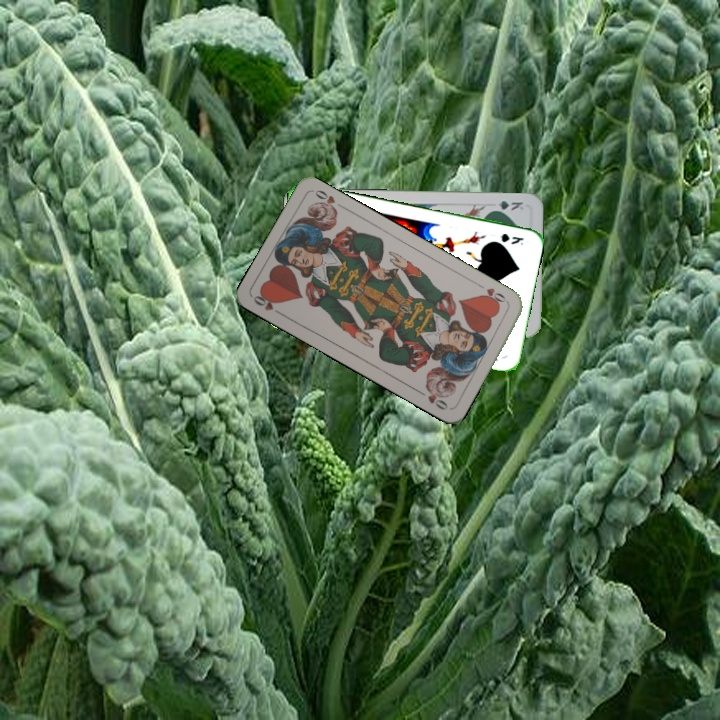GK: (487, 197, 526, 213), (497, 229, 526, 248)
HO: (249, 289, 286, 319), (474, 280, 511, 308)
